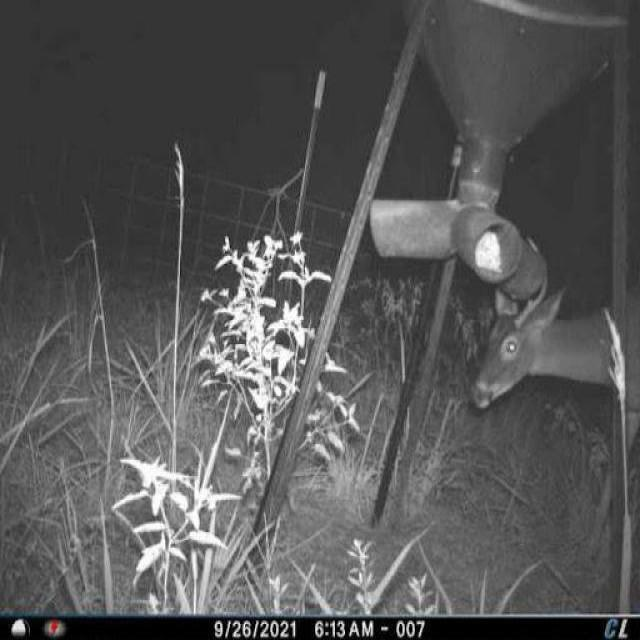deer: (465, 227, 640, 576)
